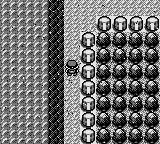main: (65, 60, 79, 76)
no-caminable: (0, 0, 64, 143), (96, 32, 159, 143), (80, 32, 96, 143), (96, 16, 159, 31)
